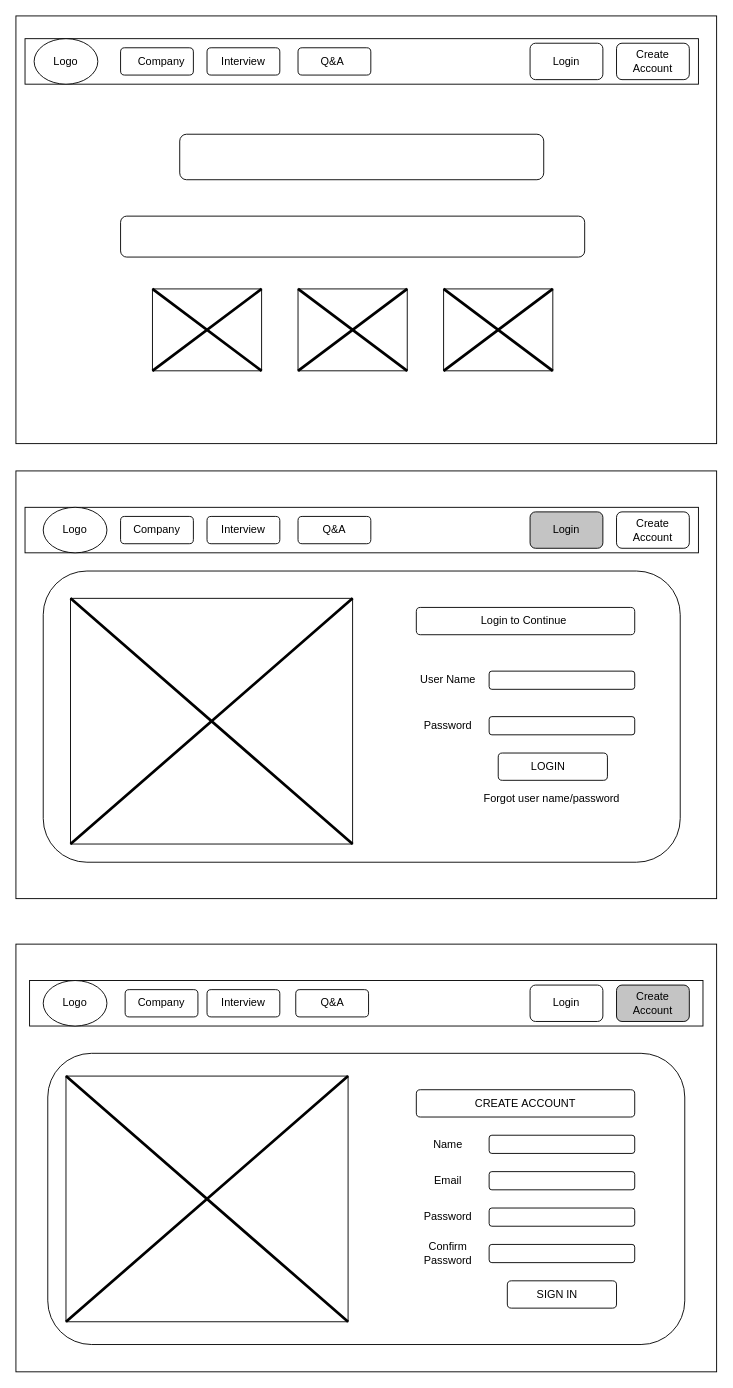
The diagram is 733 pixels wide and 1388 high, and some of its shapes have lost their labels. The centre of each missing label's shape, as x and y in pixels:
Search Bar: (x=352, y=236)
Text: (x=361, y=156)
